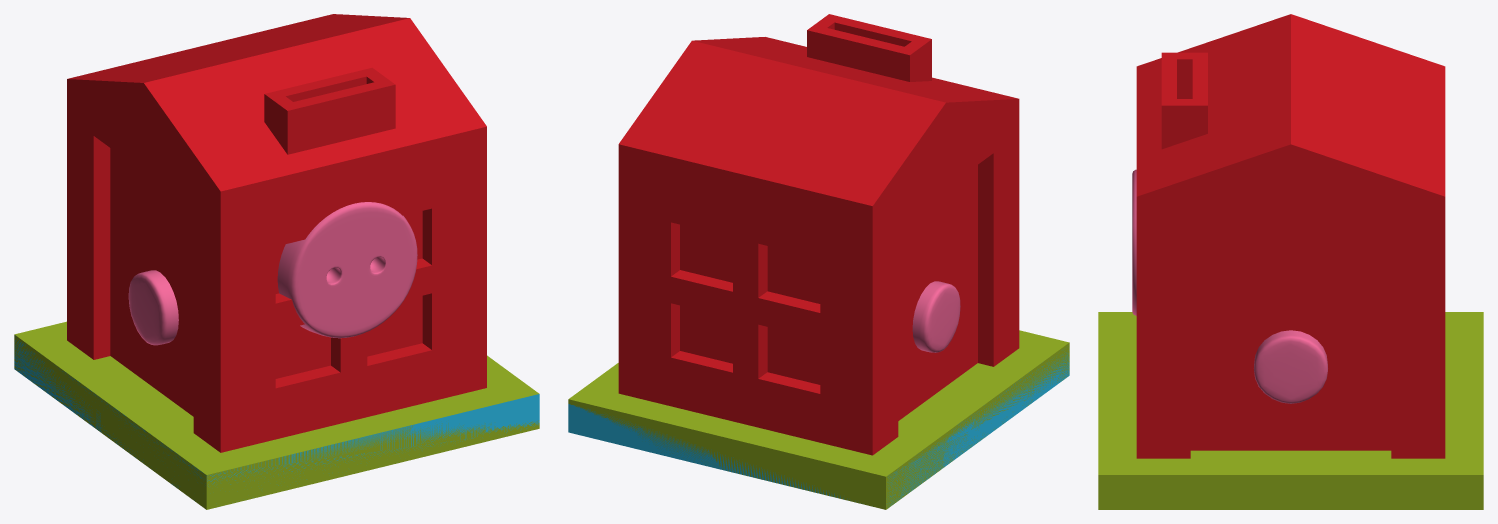
The picture shows the model from 3 angles, left to right: view 1: azimuth 30°, elevation 25°; view 2: azimuth 150°, elevation 25°; view 3: azimuth 270°, elevation 25°; orthographic projection. The views are drawn at different scales.
Parts seen in each view (by area): view 1: House (red), Pig; view 2: House (red), Pig; view 3: House (red), Pig.
Boxes of the visible parts, x1,y1,x2,y2 form: House (red): (14,14,539,509); Pig: (14,202,539,500); House (red): (568,14,1069,509); Pig: (568,281,1069,507); House (red): (1098,14,1483,509); Pig: (1132,169,1327,403).
Bounding box in the file's own units: 1 × 1 × 1.
